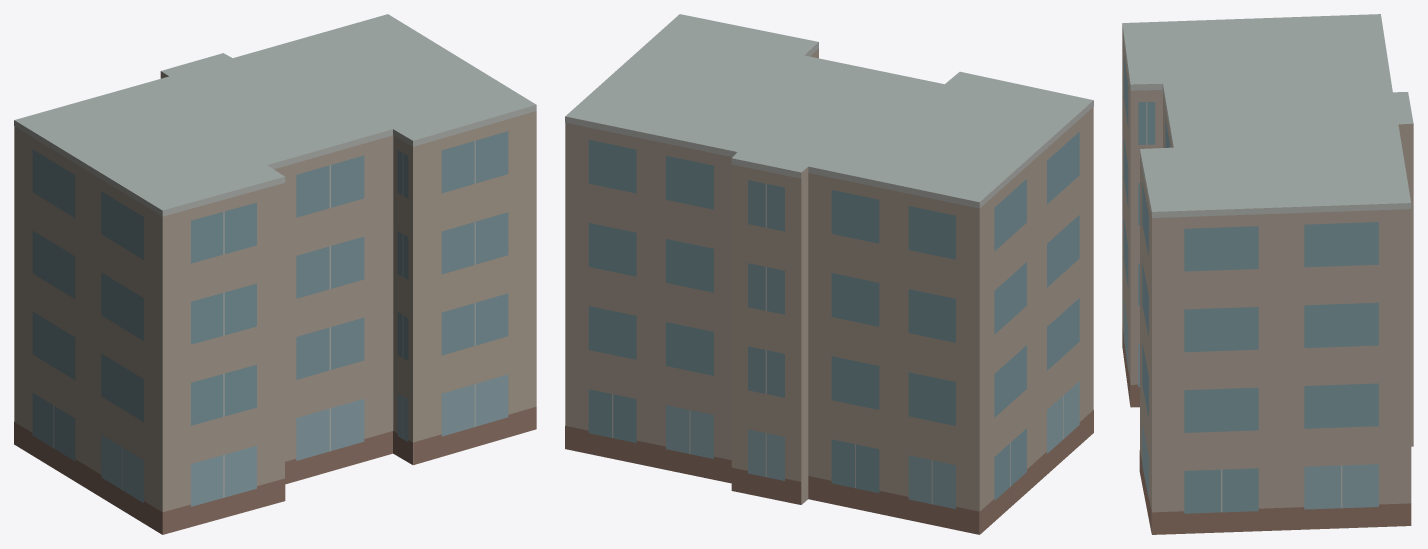
Rendered from survey-upis-32725689.glb.
3 views of the same model, side by side, from view 1: azimuth 30°, elevation 25°; view 2: azimuth 150°, elevation 25°; view 3: azimuth 270°, elevation 25° (orthographic). The views are drawn at different scales.
Parts seen in each view (by area): view 1: survey-upis-32725689.tmp; view 2: survey-upis-32725689.tmp; view 3: survey-upis-32725689.tmp.
Part boxes in pixels (x1=…): survey-upis-32725689.tmp: x1=14, y1=14, x2=536, y2=534; survey-upis-32725689.tmp: x1=565, y1=14, x2=1093, y2=534; survey-upis-32725689.tmp: x1=1122, y1=14, x2=1413, y2=534.
Bounding box in the file's own units: 17.11 × 13 × 10.64.
